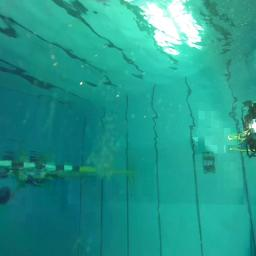Full: (243, 118, 256, 156)
front: (202, 156, 217, 174)
